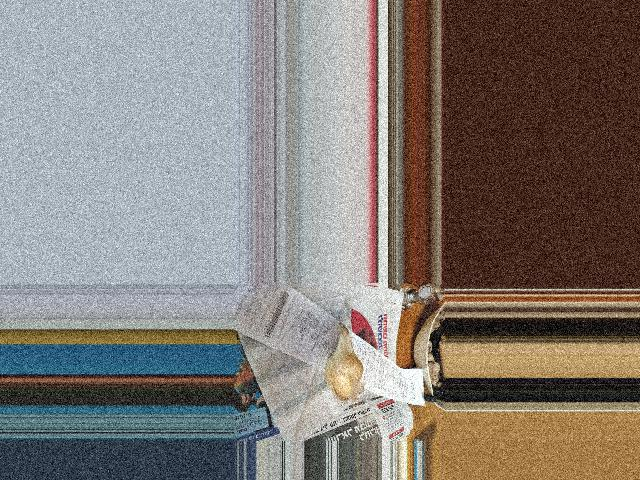onion: (326, 344, 360, 399)
